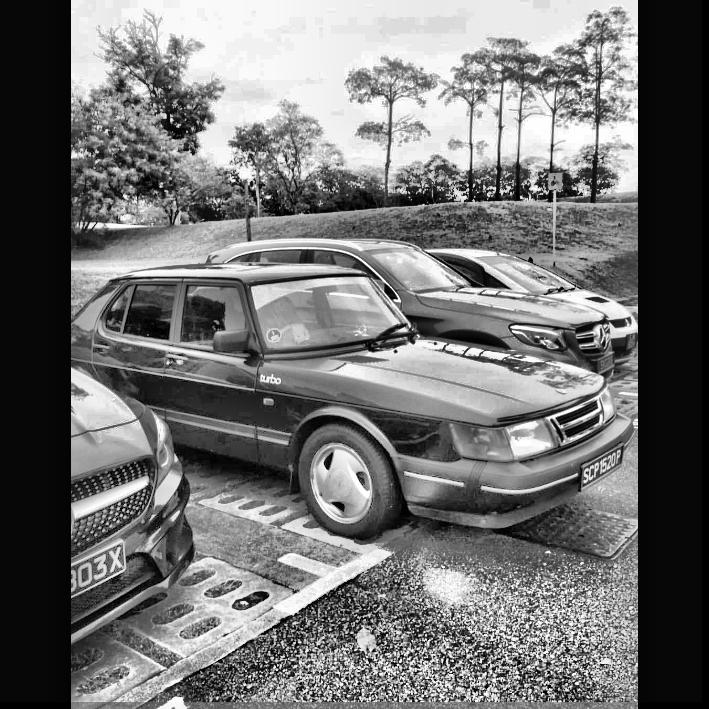License-Plates: (69, 542, 123, 596), (582, 446, 622, 487)
